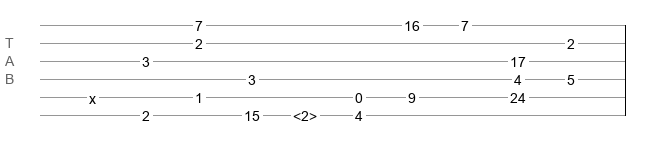0: (355, 90, 363, 100)
1: (195, 90, 203, 100)
15: (244, 108, 260, 118)
16: (404, 18, 420, 28)
17: (510, 54, 526, 64)
2: (142, 108, 150, 118), (195, 36, 203, 46), (567, 36, 575, 46)
24: (510, 90, 526, 100)
3: (142, 54, 150, 64), (248, 72, 256, 82)
4: (355, 108, 363, 118), (514, 72, 522, 82)
5: (567, 72, 575, 82)
7: (195, 18, 203, 28), (461, 18, 469, 28)
9: (408, 90, 416, 100)
harmonic: (293, 108, 317, 118)
x: (89, 91, 96, 99)
